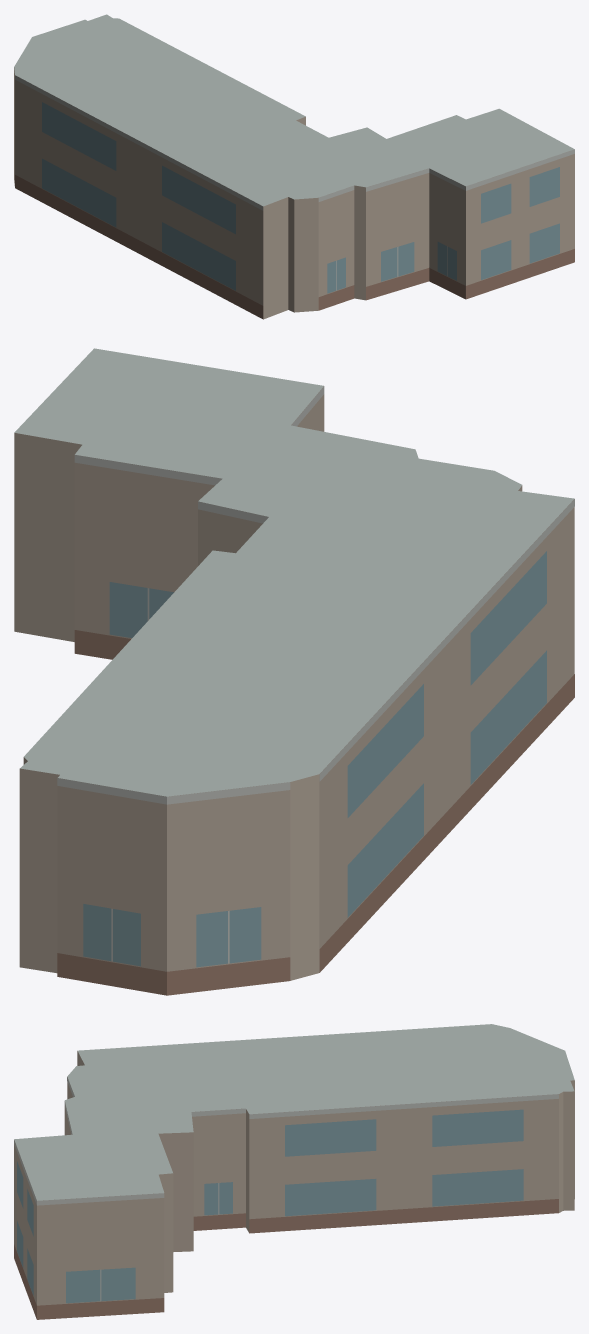
File: survey-upis-32596597.glb
3 renders of one model, top to bottom at view 1: azimuth 30°, elevation 25°; view 2: azimuth 150°, elevation 25°; view 3: azimuth 270°, elevation 25°, orthographic. The views are drawn at different scales.
Parts seen in each view (by area): view 1: survey-upis-32596597.tmp; view 2: survey-upis-32596597.tmp; view 3: survey-upis-32596597.tmp.
Boxes of the visible parts, bbox=[...] form: survey-upis-32596597.tmp: bbox=[14, 14, 574, 319]; survey-upis-32596597.tmp: bbox=[14, 348, 574, 995]; survey-upis-32596597.tmp: bbox=[14, 1024, 574, 1319].
Size of the model in its own units: 19.44 by 6.1 by 26.05.
